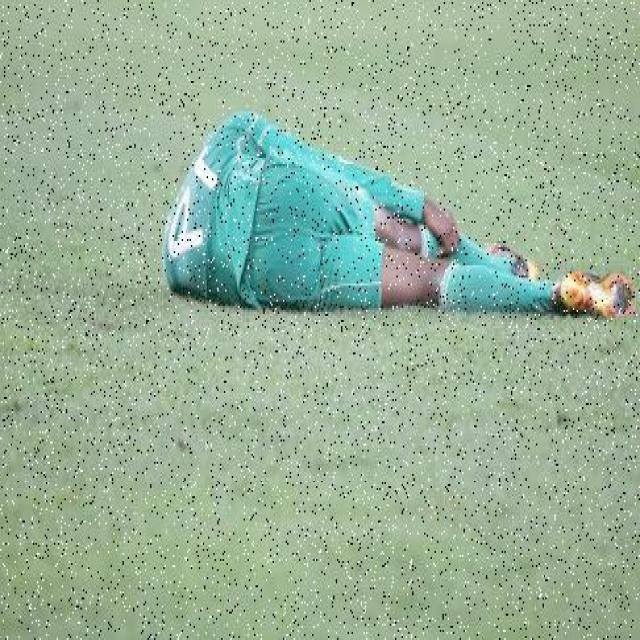fall: (172, 119, 634, 314)
